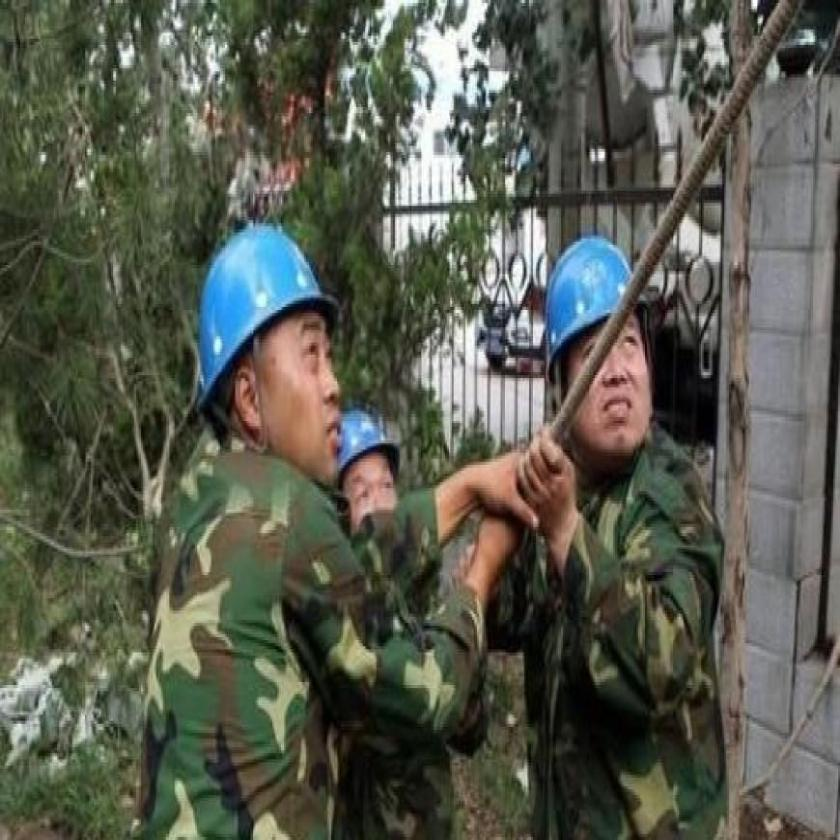Con_casco: (187, 220, 348, 502), (536, 232, 661, 480), (332, 406, 408, 562)
